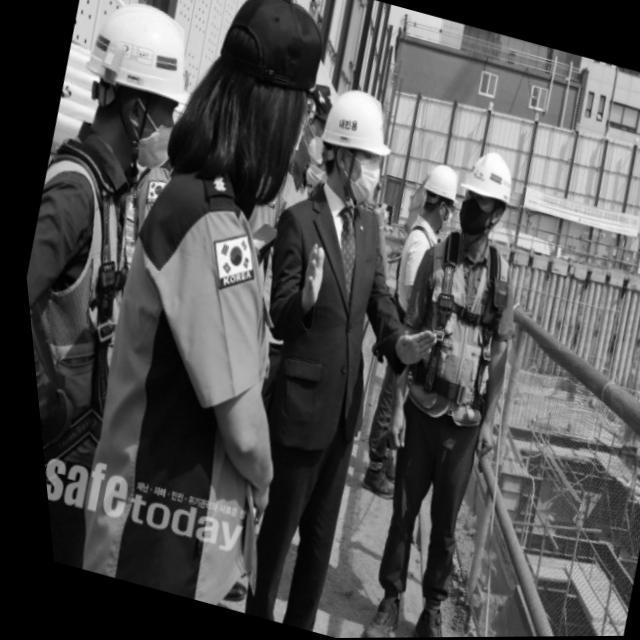belt: (363, 233, 535, 477)
